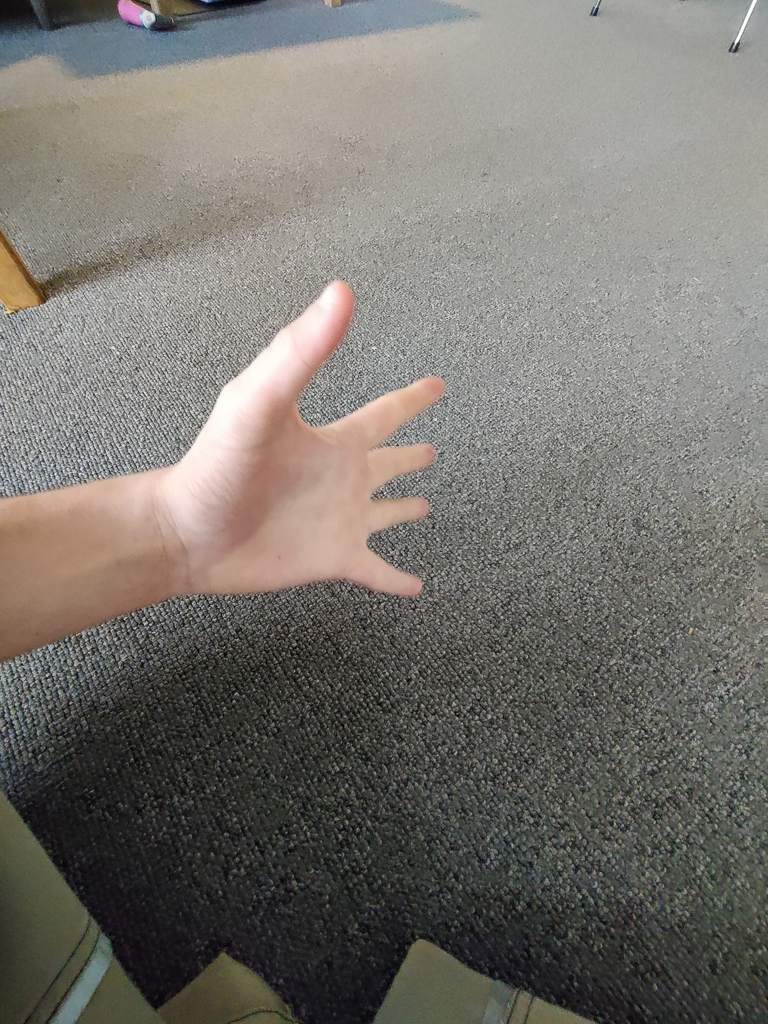Humanoid: (0, 267, 617, 1024)
